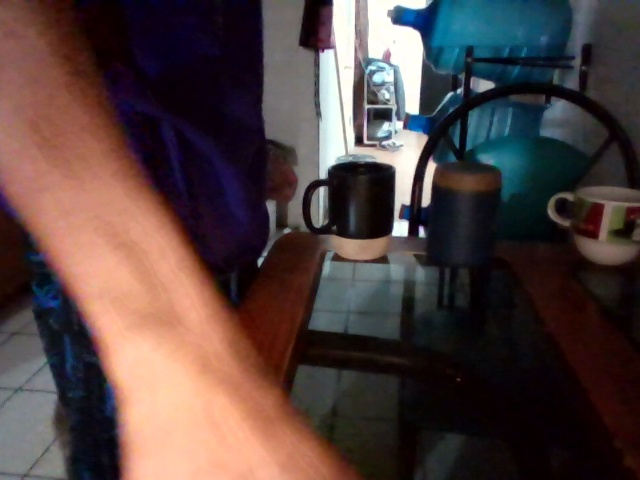taza: (303, 158, 396, 243)
